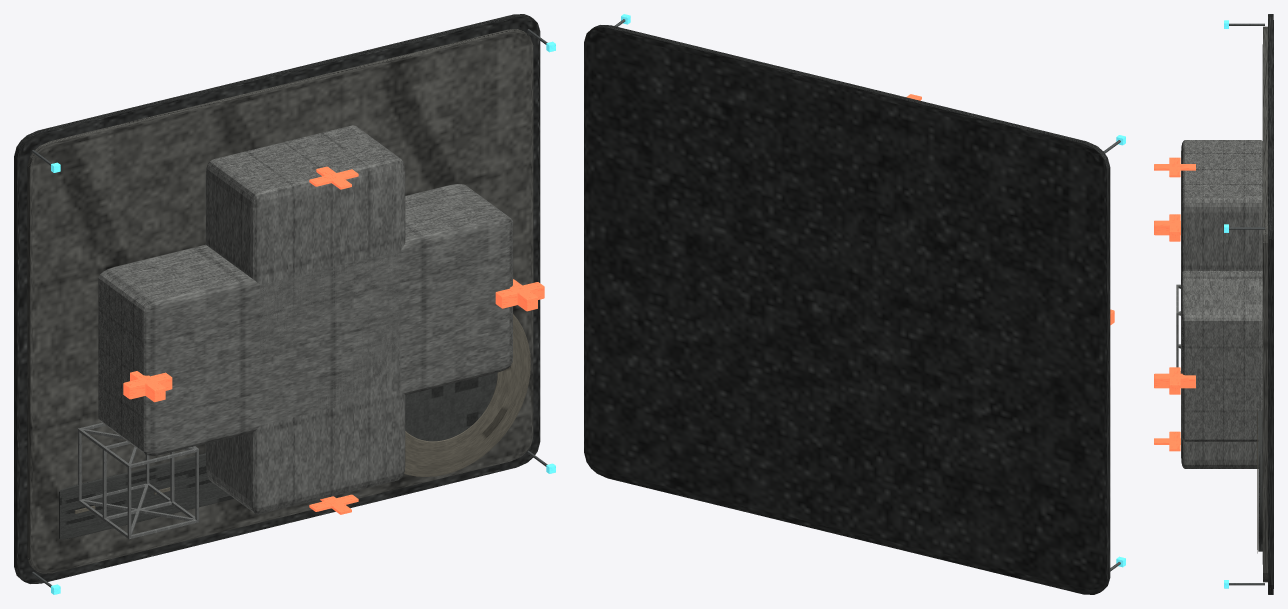
Rendered from b-40-medical-center-lod0.glb.
3 renders of one model, left to right at view 1: azimuth 30°, elevation 25°; view 2: azimuth 150°, elevation 25°; view 3: azimuth 270°, elevation 25°, orthographic. The views are drawn at different scales.
Parts seen in each view (by area): view 1: foundation_inner_pad, hospital_cross_wing, hospital_core, foundation, ambulance_loop_road, helipad_ring, primary_helipad, medical_cross_h_6.05_0; view 2: foundation; view 3: hospital_cross_wing, hospital_core, foundation, foundation_inner_pad, primary_helipad, medical_cross_v_6.05_0, medical_cross_v_-6.05_0, medical_cross_h_6.05_0, medical_cross_h_-6.05_0, medical_cross_v_0_5.05, medical_cross_h_0_-5.05, medical_cross_h_0_5.05.
Part boxes in pixels (x1,y1,x2,y2): foundation_inner_pad: (27, 29, 533, 573); hospital_cross_wing: (98, 184, 512, 455); hospital_core: (205, 125, 405, 514); foundation: (14, 14, 540, 583); ambulance_loop_road: (59, 453, 233, 539); helipad_ring: (404, 314, 530, 476); primary_helipad: (405, 372, 497, 441); medical_cross_h_6.05_0: (495, 282, 544, 308); foundation: (584, 25, 1110, 594); hospital_cross_wing: (1181, 271, 1262, 441); hospital_core: (1181, 140, 1262, 468); foundation: (1268, 14, 1273, 594); foundation_inner_pad: (1262, 26, 1267, 582); primary_helipad: (1258, 410, 1262, 551); medical_cross_v_6.05_0: (1154, 373, 1195, 388); medical_cross_v_-6.05_0: (1154, 220, 1180, 235); medical_cross_h_6.05_0: (1169, 367, 1180, 394); medical_cross_h_-6.05_0: (1169, 214, 1180, 241); medical_cross_v_0_5.05: (1154, 164, 1195, 170); medical_cross_h_0_-5.05: (1169, 431, 1180, 451); medical_cross_h_0_5.05: (1169, 157, 1180, 177).
Size of what is drawn, in the model's own units: 17 by 14 by 4.
Materials: 9 (9 with a texture image).
